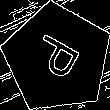P_SE: (26, 30, 88, 87)
